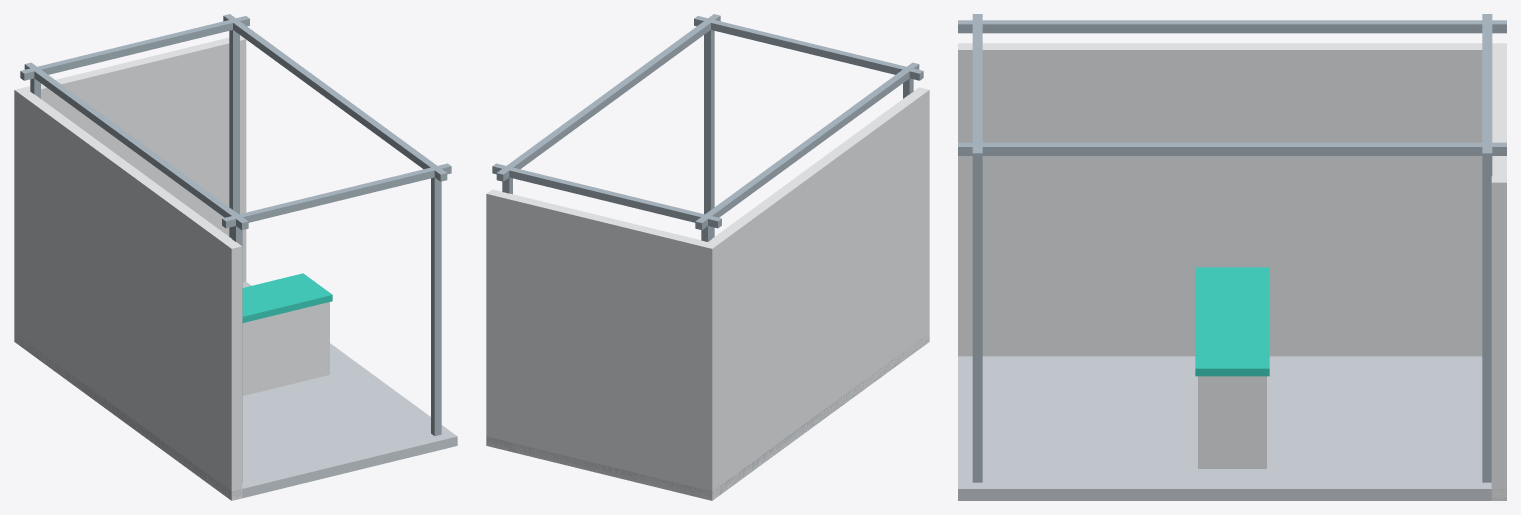
The picture shows the model from 3 angles, left to right: view 1: azimuth 30°, elevation 25°; view 2: azimuth 150°, elevation 25°; view 3: azimuth 270°, elevation 25°; orthographic projection. The views are drawn at different scales.
Visible parts, largest first — view 1: Exhibition Booth Concept; view 2: Exhibition Booth Concept; view 3: Exhibition Booth Concept.
Part boxes in pixels (bbox=[...]): Exhibition Booth Concept: bbox=[14, 14, 457, 500]; Exhibition Booth Concept: bbox=[486, 14, 929, 500]; Exhibition Booth Concept: bbox=[958, 14, 1506, 500].
Bounding box in the file's own units: 3 × 3.49 × 5.
